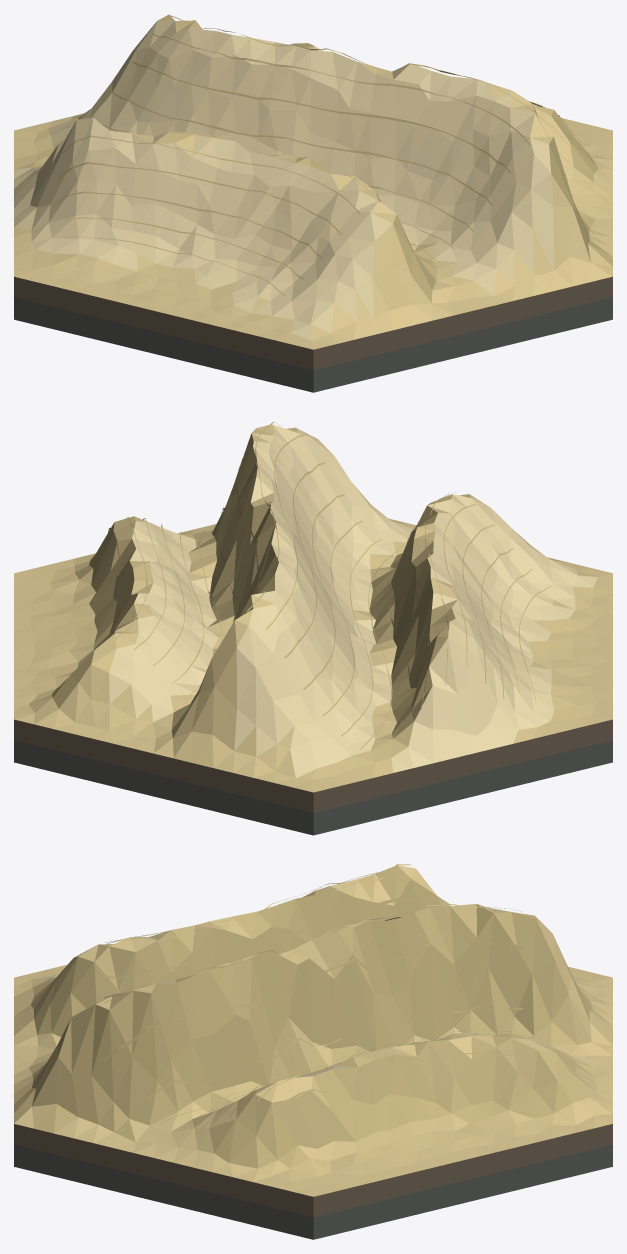
File: sand-dunes.glb
3 views of the same model, one above another, from view 1: azimuth 30°, elevation 25°; view 2: azimuth 150°, elevation 25°; view 3: azimuth 270°, elevation 25° (orthographic).
Visible parts, largest first — view 1: LandformRoot_mesh; view 2: LandformRoot_mesh; view 3: LandformRoot_mesh.
Part boxes in pixels (x1,y1,x2,y2): LandformRoot_mesh: (14, 14, 612, 392); LandformRoot_mesh: (14, 421, 612, 835); LandformRoot_mesh: (14, 864, 612, 1239).
Bounding box in the file's own units: 3.5 × 1.01 × 3.03.
